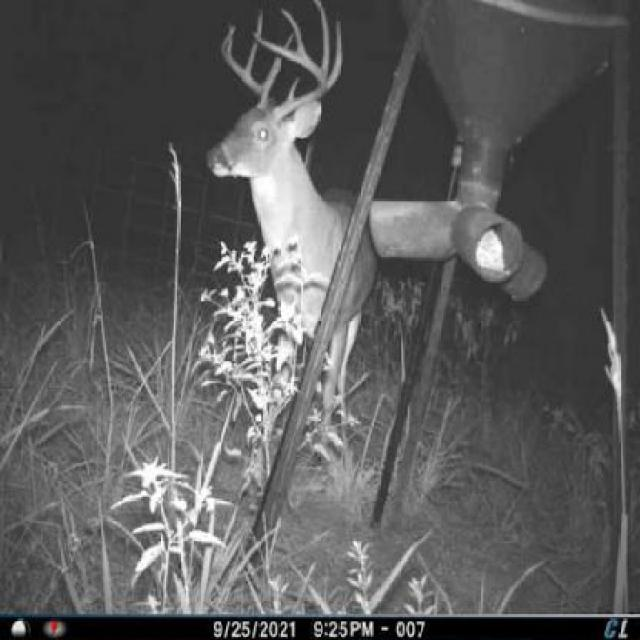Deer: (198, 0, 371, 486)
